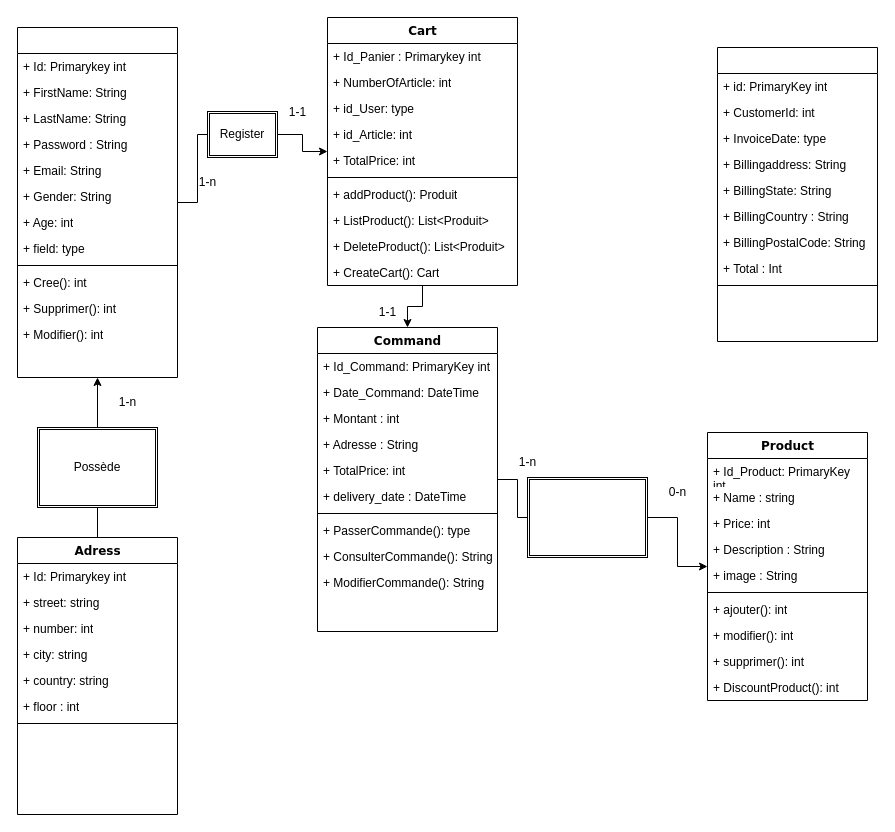
Some shapes in this 895 by 832 pixel diagram are drawn without their labels. Each missing label, with the box of its shape:
Invoices: (716, 46, 878, 342)
Item ordered: (526, 476, 648, 558)
User: (16, 26, 178, 378)
